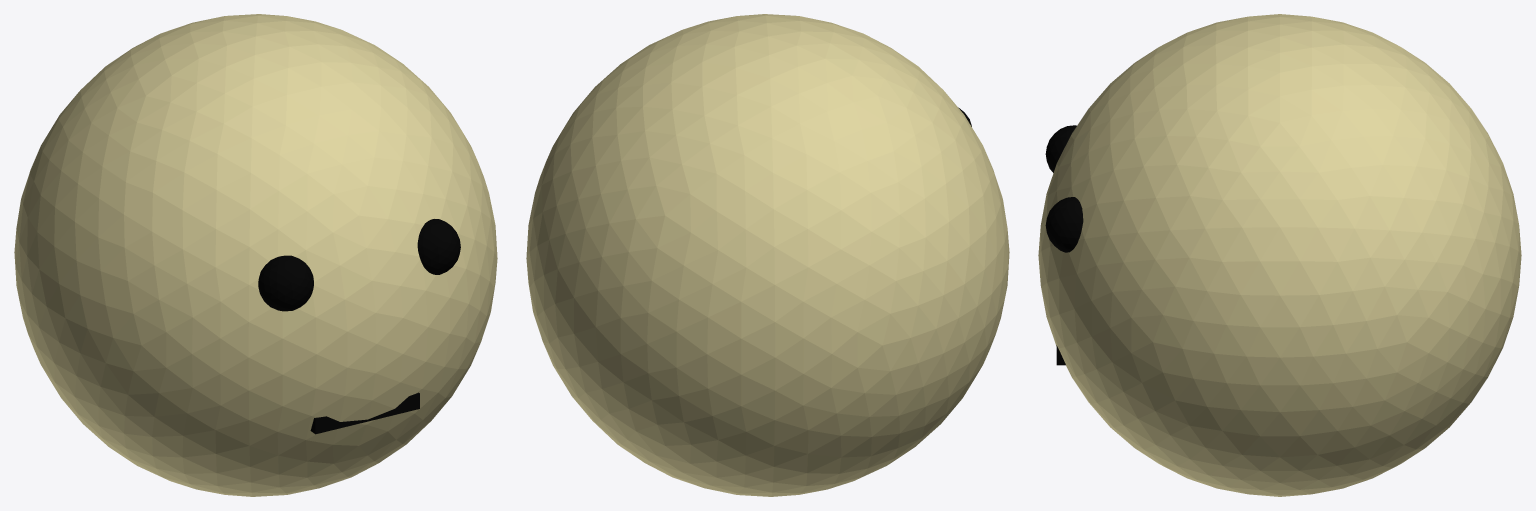
Rendered from emoji_neutral.glb.
3 renders of one model, left to right at view 1: azimuth 30°, elevation 25°; view 2: azimuth 150°, elevation 25°; view 3: azimuth 270°, elevation 25°, orthographic.
Parts seen in each view (by area): view 1: world; view 2: world; view 3: world.
Part boxes in pixels (x1,y1,x2,y2): world: [14, 14, 497, 496]; world: [526, 14, 1009, 496]; world: [1038, 14, 1521, 496].
Size of the model in its own units: 2 by 2 by 2.
